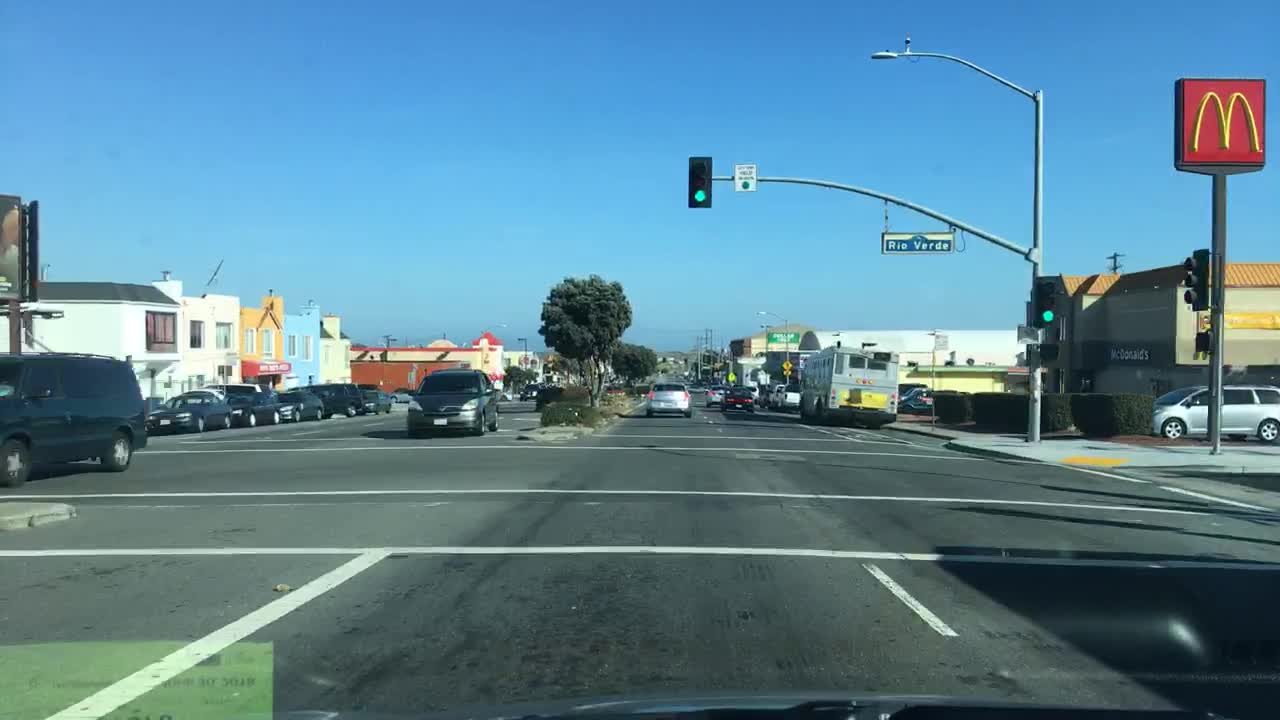bus: (800, 343, 900, 428)
car: (1, 348, 150, 487), (1149, 378, 1278, 442), (405, 367, 499, 435), (139, 388, 233, 434), (204, 382, 279, 427), (644, 379, 693, 418), (307, 382, 360, 418), (276, 390, 322, 422), (894, 386, 931, 413), (359, 387, 391, 416), (778, 382, 801, 417), (705, 384, 727, 406), (768, 382, 783, 411), (519, 380, 540, 400), (389, 389, 413, 402), (757, 385, 770, 408), (746, 385, 761, 402), (492, 388, 512, 399)
traffic light: (1183, 248, 1207, 311), (687, 153, 709, 209), (1033, 273, 1054, 327), (1195, 327, 1211, 355), (1039, 342, 1059, 360)
traffic sign: (879, 230, 952, 250), (732, 162, 753, 191), (781, 360, 791, 369), (728, 370, 735, 381), (781, 369, 792, 376)
